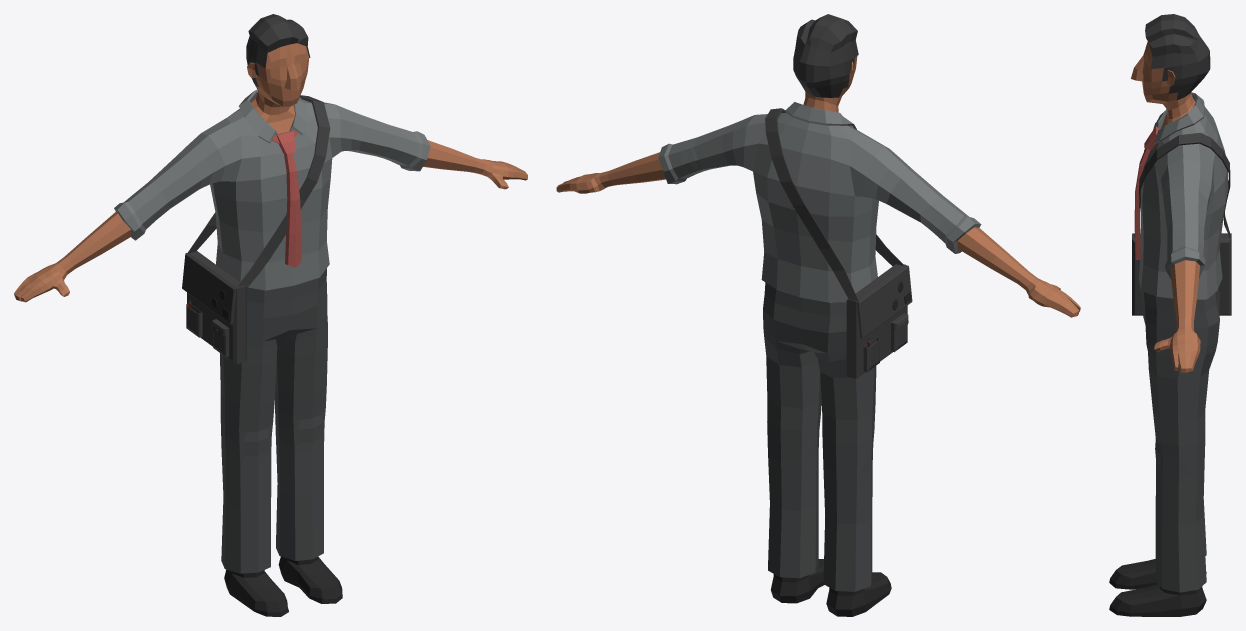
Rendered from marcelo.fbx.
The picture shows the model from 3 angles, left to right: view 1: azimuth 30°, elevation 25°; view 2: azimuth 150°, elevation 25°; view 3: azimuth 270°, elevation 25°; orthographic projection. The views are drawn at different scales.
Visible parts, largest first — view 1: Marcelo, Bolsa; view 2: Marcelo, Bolsa; view 3: Marcelo, Bolsa.
Boxes of the visible parts, bbox=[...] form: Marcelo: bbox=[14, 14, 527, 616]; Bolsa: bbox=[182, 95, 330, 364]; Marcelo: bbox=[556, 14, 1080, 616]; Bolsa: bbox=[765, 108, 912, 378]; Marcelo: bbox=[1109, 14, 1228, 616]; Bolsa: bbox=[1132, 132, 1231, 315].
Bounding box in the file's own units: 165 × 177 × 34.08.
